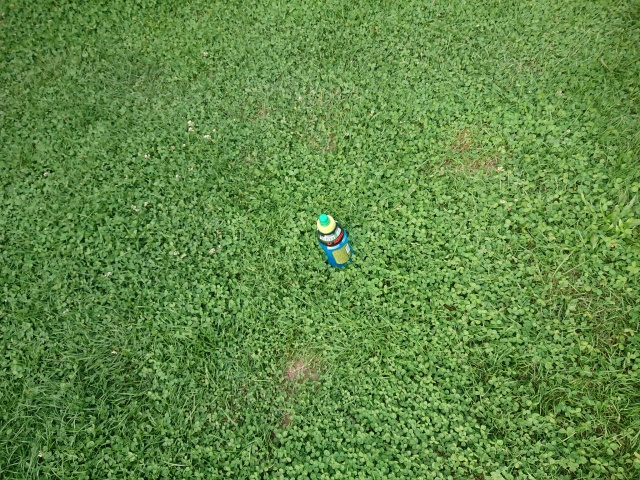Vindi Iso Sport Forest Strawberries 500mL: (315, 212, 353, 269)
